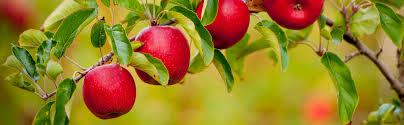apple: (79, 61, 143, 121), (133, 27, 195, 82), (192, 1, 246, 47), (265, 0, 324, 31)
